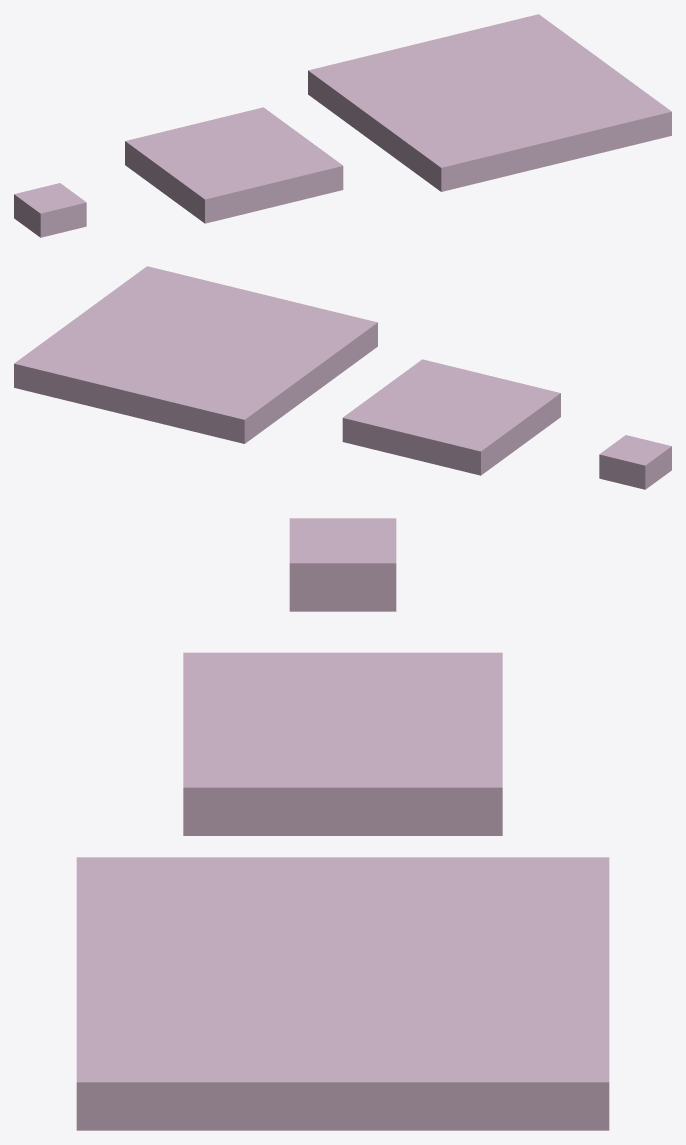
File: platformtile.fbx
The picture shows the model from 3 angles, top to bottom: view 1: azimuth 30°, elevation 25°; view 2: azimuth 150°, elevation 25°; view 3: azimuth 270°, elevation 25°; orthographic projection. The views are drawn at different scales.
Visible parts, largest first — view 1: plank5m, plank3m, plank1m; view 2: plank5m, plank3m, plank1m; view 3: plank5m, plank3m, plank1m.
Boxes of the visible parts, bbox=[...] form: plank5m: bbox=[308, 14, 671, 191]; plank3m: bbox=[125, 107, 343, 223]; plank1m: bbox=[14, 183, 86, 237]; plank5m: bbox=[14, 266, 377, 443]; plank3m: bbox=[342, 359, 560, 475]; plank1m: bbox=[599, 435, 671, 489]; plank5m: bbox=[76, 857, 609, 1130]; plank3m: bbox=[183, 652, 502, 835]; plank1m: bbox=[289, 518, 396, 611].
Bounding box in the file's own units: 1253 × 50 × 500.
